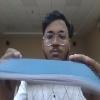notebook: (0, 57, 99, 99)
